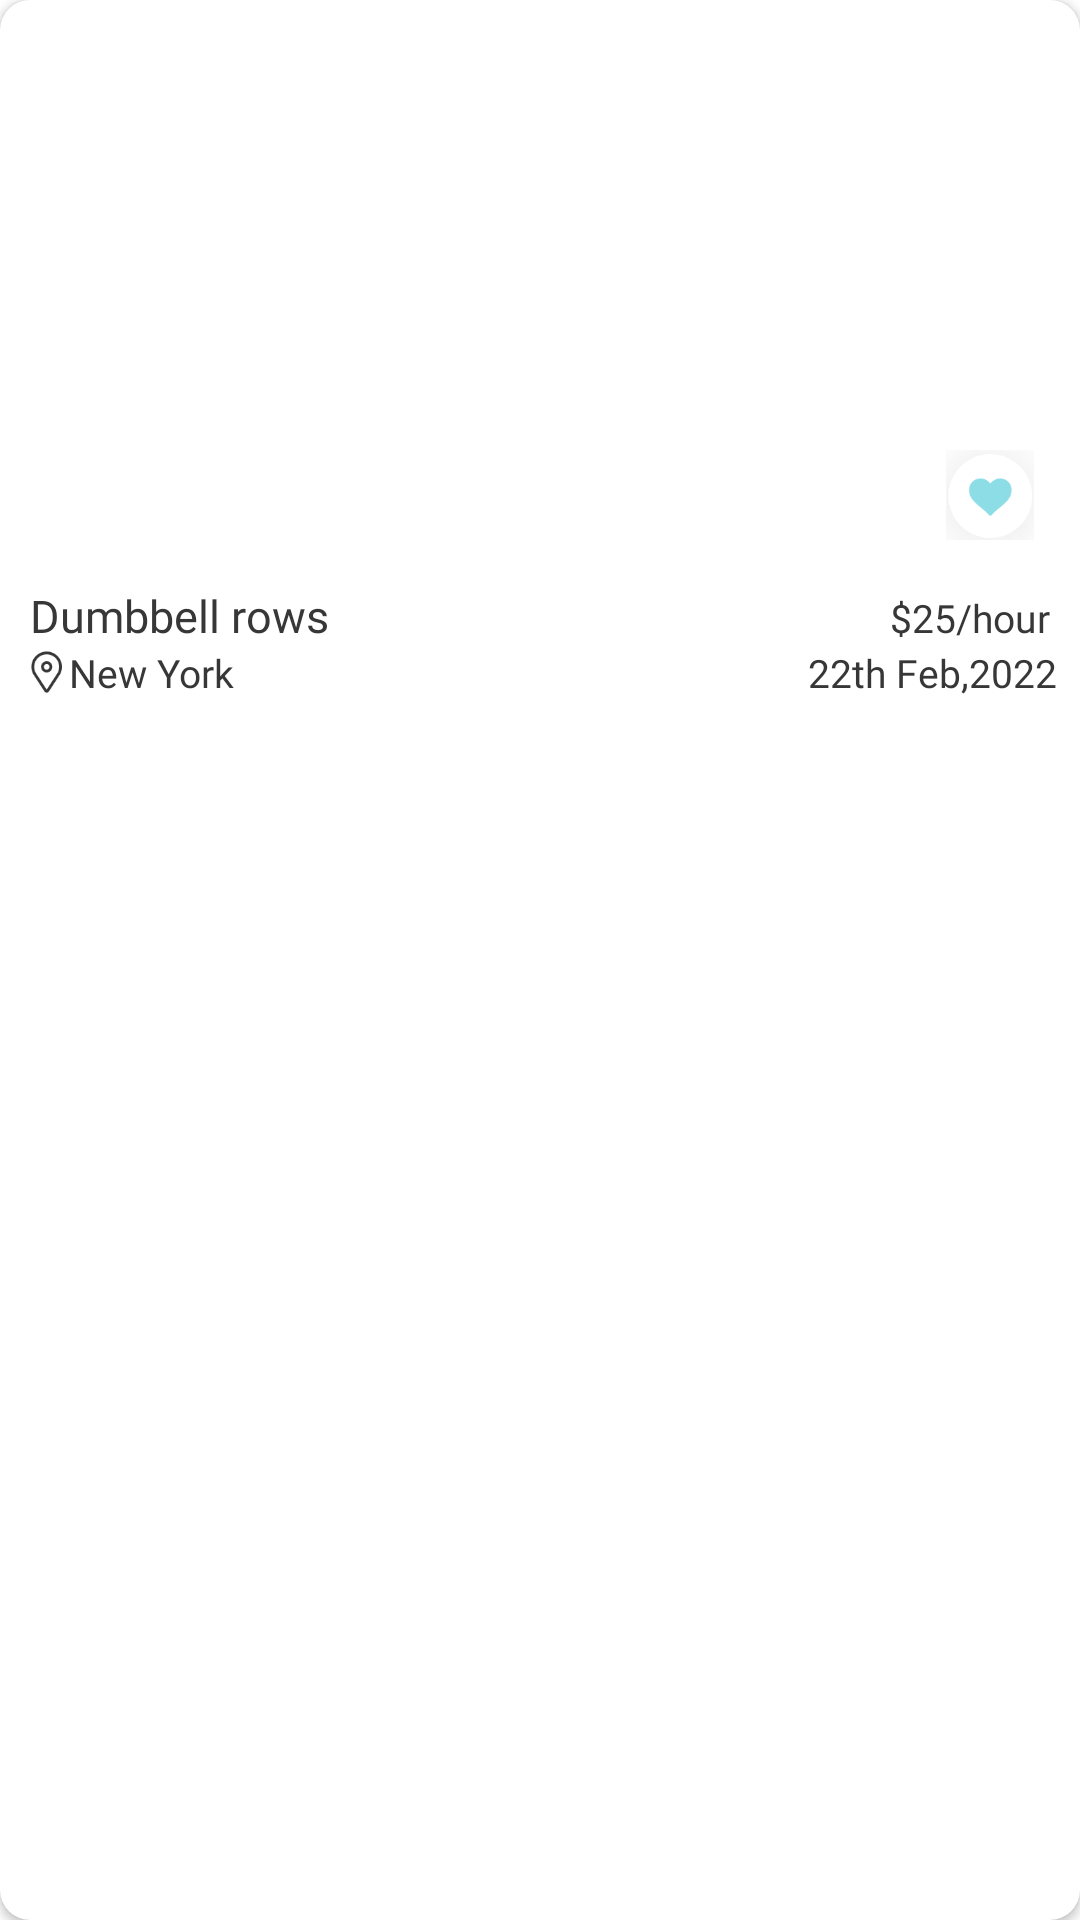

Where icons sit on this 1080 x 1920 app screen, as (x1, y1, x2, y2):
heart: (969, 478, 1012, 516)
location booking: (31, 651, 62, 693)
